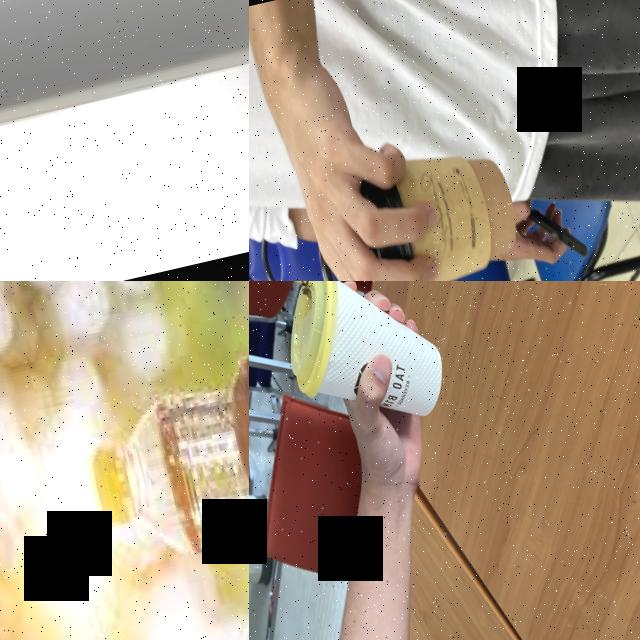bottle: (77, 321, 249, 583)
can: (0, 0, 249, 179)
cup: (268, 281, 453, 444), (353, 139, 528, 281)
